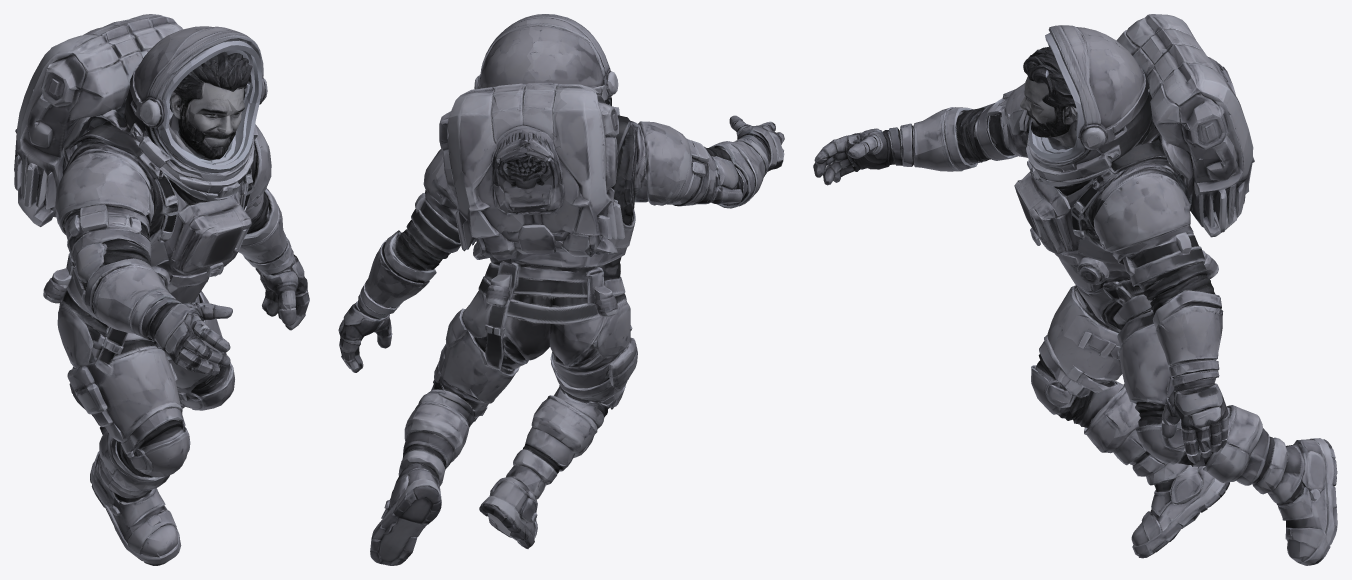
Rendered from astro-rigged.glb.
3 views of the same model, side by side, from view 1: azimuth 30°, elevation 25°; view 2: azimuth 150°, elevation 25°; view 3: azimuth 270°, elevation 25° (orthographic). The views are drawn at different scales.
Parts seen in each view (by area): view 1: output_unwrapped; view 2: output_unwrapped; view 3: output_unwrapped.
Part boxes in pixels (bbox=[...]): output_unwrapped: bbox=[14, 14, 309, 565]; output_unwrapped: bbox=[338, 14, 784, 565]; output_unwrapped: bbox=[813, 14, 1337, 565].
Size of the model in its own units: 1.21 by 1.9 by 1.7.
Materials: 1 (1 with a texture image).
